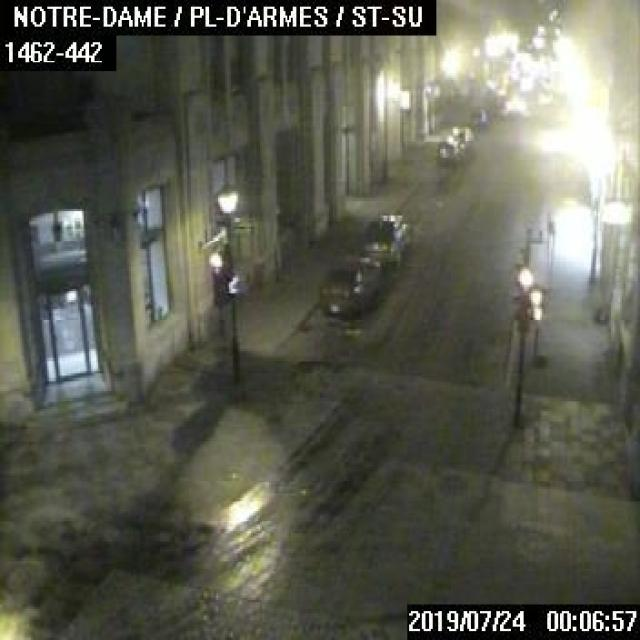pedestrian: (542, 202, 554, 247)
vehicle: (316, 254, 383, 318), (358, 213, 412, 265), (449, 125, 472, 150), (435, 136, 458, 160), (468, 106, 485, 128)
